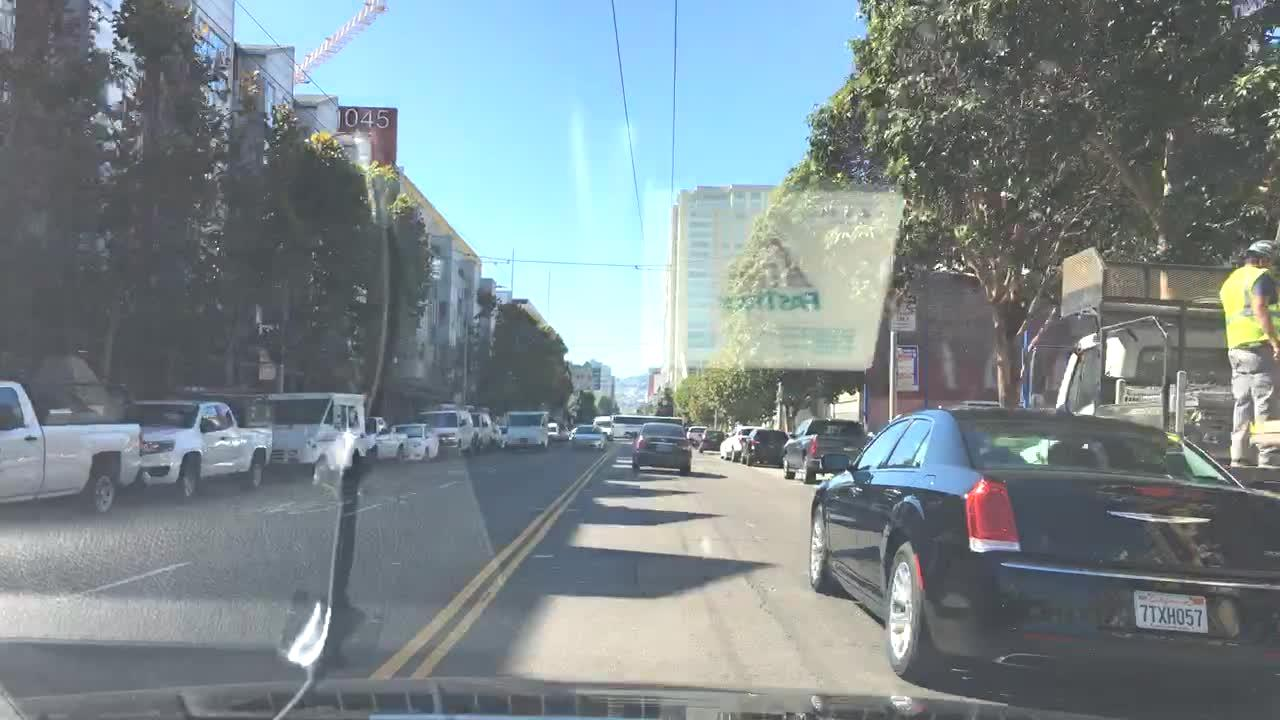Chrysler: (1107, 506, 1211, 533)
